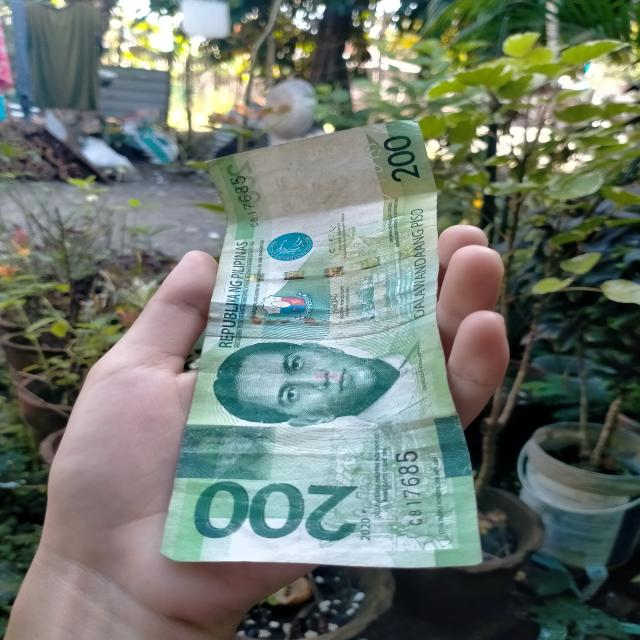concealed_value: (173, 424, 278, 479)
security_thread: (221, 244, 435, 290)
see_through_mark: (354, 132, 399, 213)
serial_number: (384, 446, 434, 536), (218, 157, 269, 237)
value: (188, 477, 362, 541)
value_watermark: (298, 142, 344, 166)
watermark: (247, 162, 362, 222)
